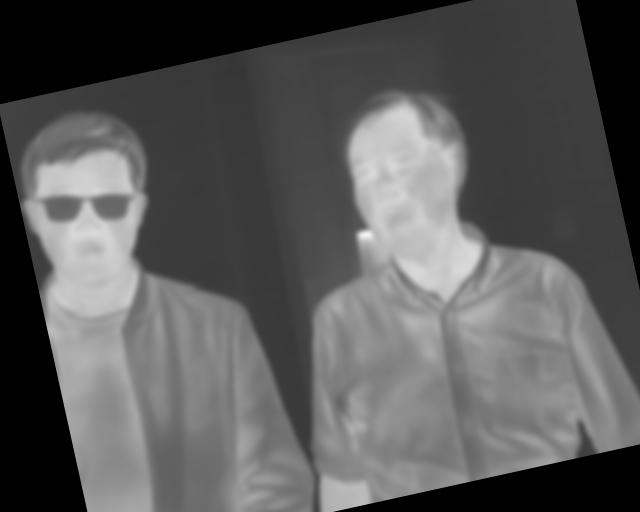face: (3, 98, 171, 298), (329, 75, 488, 267)
